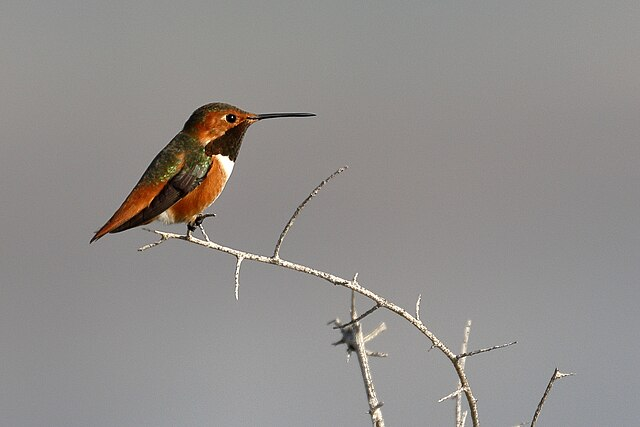selasphorus sasin: (88, 101, 315, 243)
